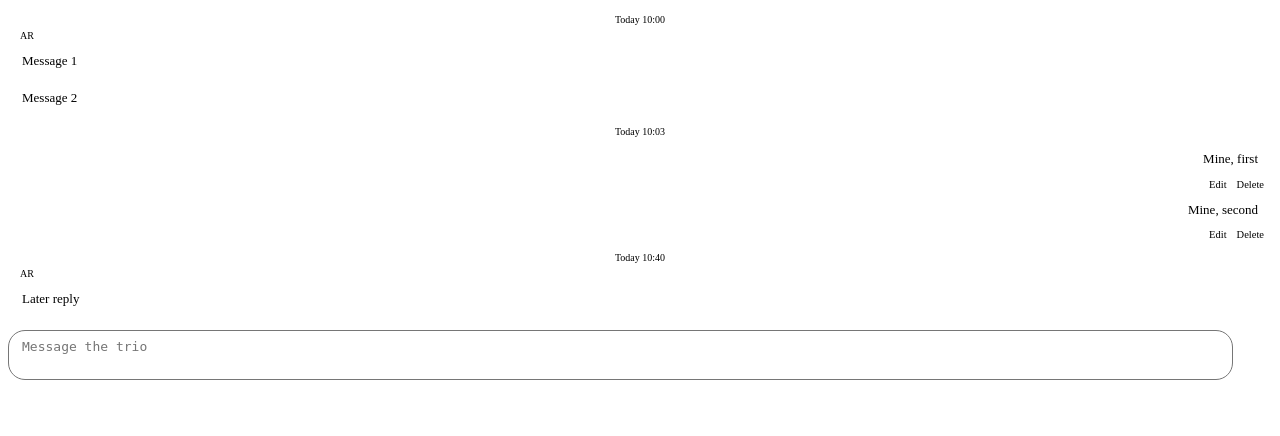
Test case: ChatThread › edit and delete own › Edit loads the message into the composer; Enter saves and the bubble is marked edited
Click the button with test id "ost-chat-edit-3": (1218, 184) left=1209, top=179, right=1227, bottom=190
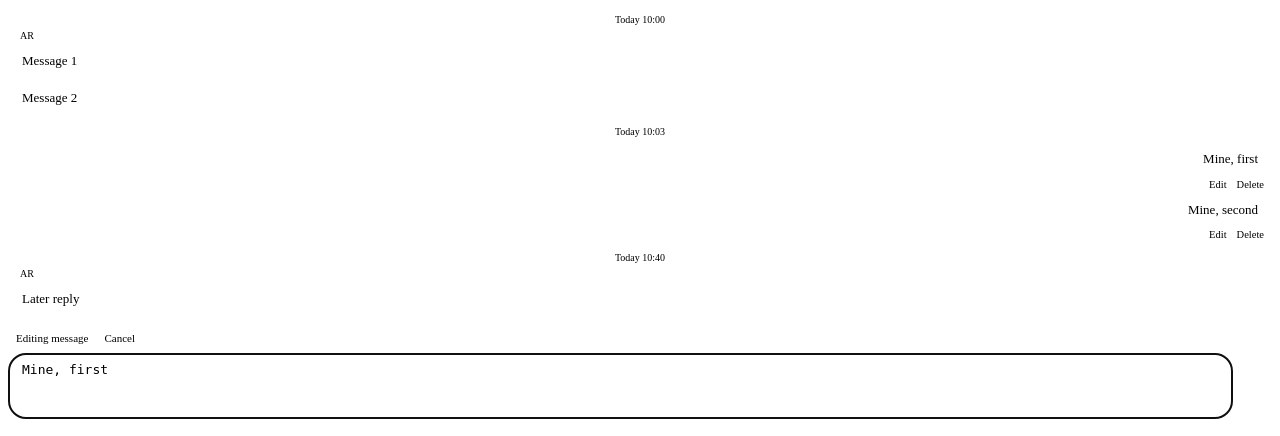
Check: the element with test id "ost-chat-editing" shows "Editing message", box left=16, top=332, right=88, bottom=344
Check: the text box with test id "ost-chat-input" holds "Mine, first"
Replace the text in the text box with test id "ost-chat-input" with "Mine, fixed": (620, 386) left=8, top=353, right=1233, bottom=419
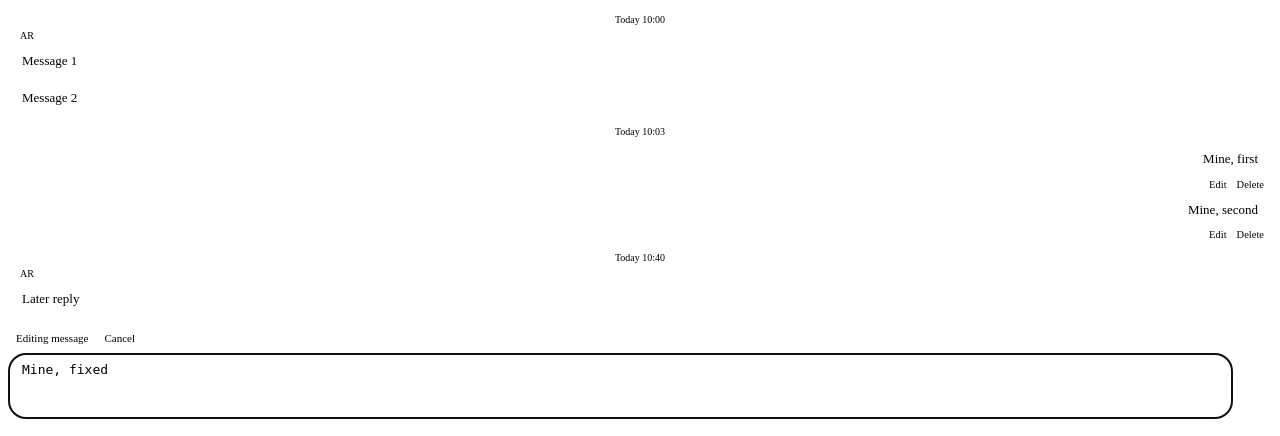
Press Enter in the text box with test id "ost-chat-input", box left=8, top=353, right=1233, bottom=419
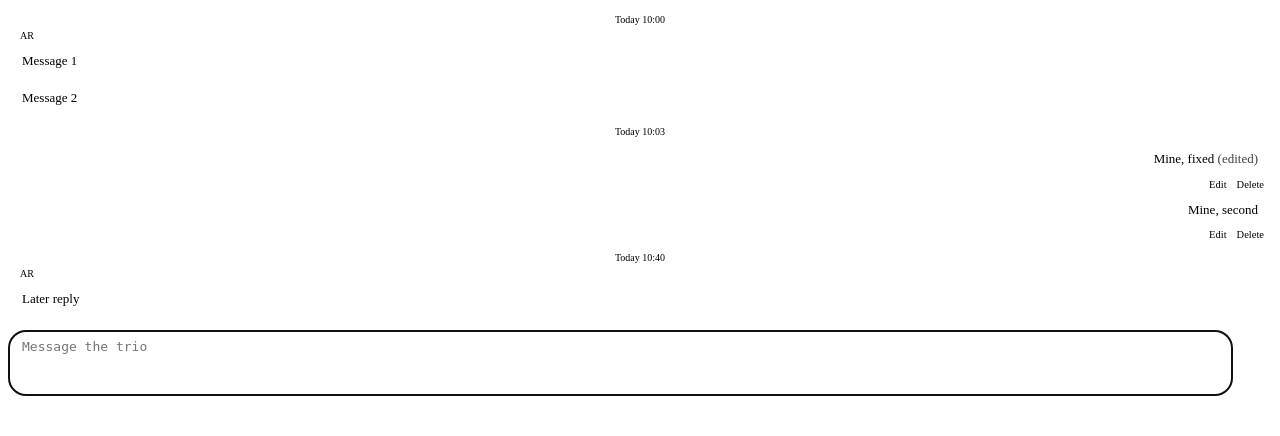
Check: the element with test id "ost-chat-msg-3" shows "Mine, fixed", box left=1154, top=151, right=1214, bottom=166
Check: the text with test id "ost-chat-edited" reads "(edited)", box left=1214, top=151, right=1258, bottom=166
